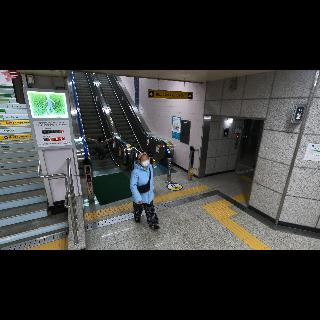anomaly: (82, 134, 118, 160)
normal: (130, 150, 162, 234)
